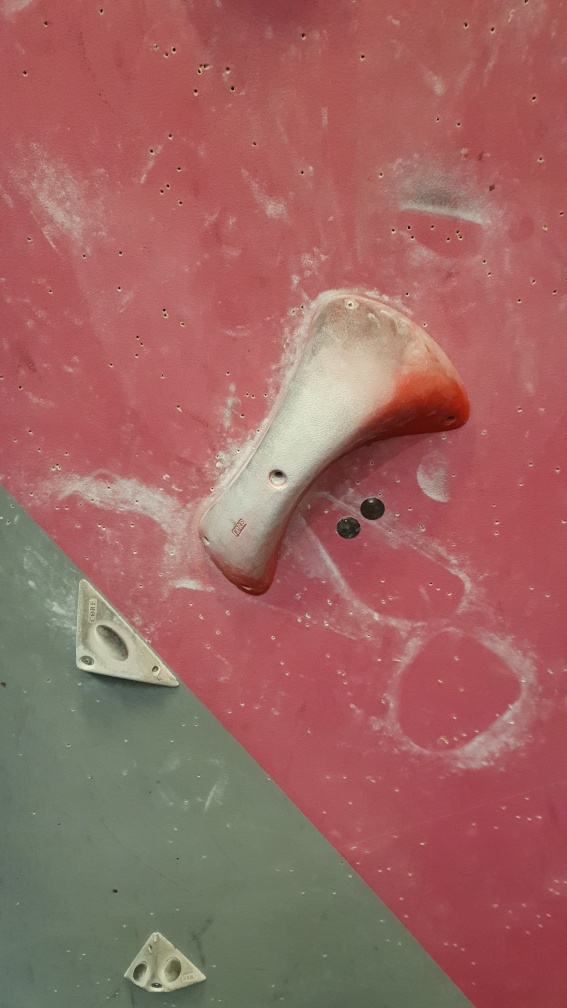Hand Start: (358, 495, 387, 521), (336, 517, 362, 541)
Pinch: (197, 287, 475, 597)
